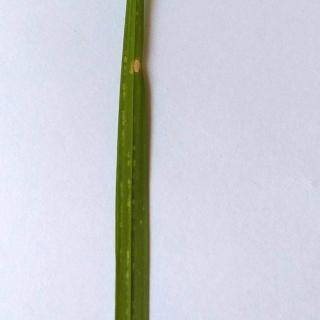Blast: (128, 53, 148, 83)
